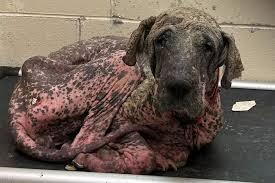infection: (15, 20, 271, 160)
